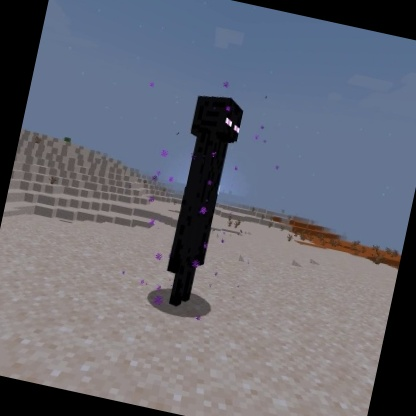enderman: (149, 88, 249, 316)
